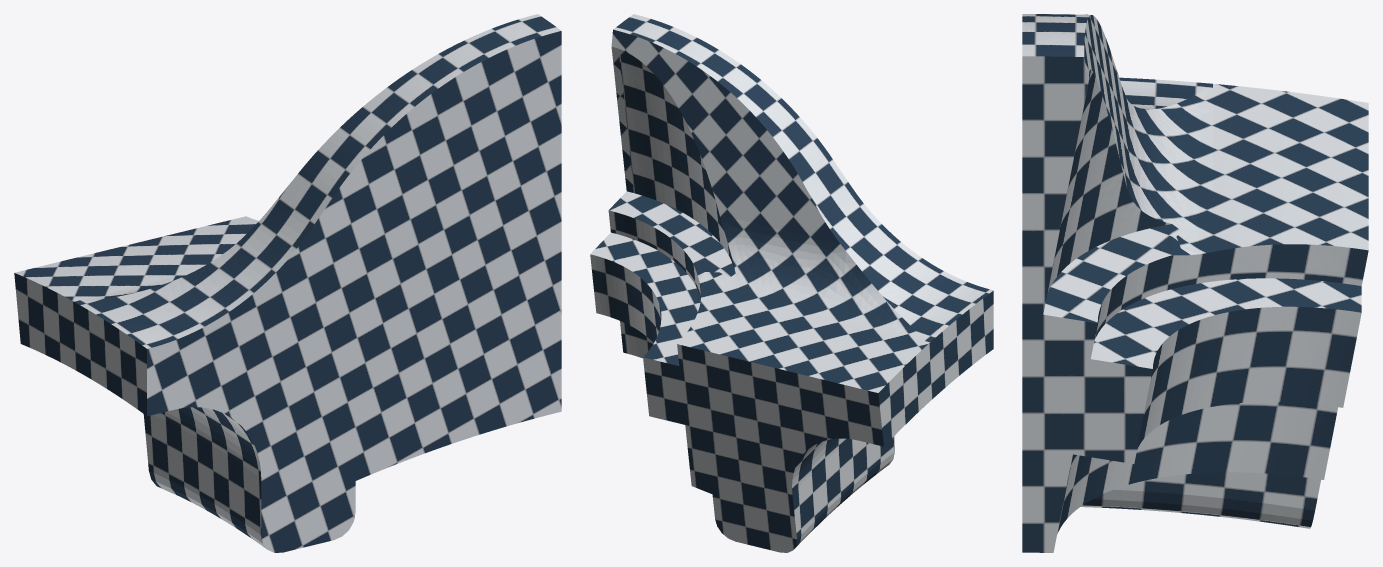
Rendered from packed.obj.
3 renders of one model, left to right at view 1: azimuth 30°, elevation 25°; view 2: azimuth 150°, elevation 25°; view 3: azimuth 270°, elevation 25°, orthographic. The views are drawn at different scales.
Visible parts, largest first — view 1: chart_9, chart_2, chart_11, chart_3, chart_5; view 2: chart_3, chart_4, chart_2, chart_10, chart_5, chart_11, chart_14, chart_1, chart_0, chart_8, chart_12; view 3: chart_3, chart_6, chart_0, chart_12, chart_14, chart_8, chart_10, chart_11, chart_1, chart_2.
Boxes of the visible parts, x1,y1,x2,y2 form: chart_9: (147,31,561,552); chart_2: (74,14,561,348); chart_11: (143,407,266,548); chart_3: (14,216,258,301); chart_5: (14,273,146,415); chart_3: (611,29,929,392); chart_4: (643,344,883,552); chart_2: (613,14,993,342); chart_10: (619,52,735,271); chart_5: (878,291,993,446); chart_11: (792,436,894,548); chart_14: (590,232,700,365); chart_1: (609,191,735,277); chart_0: (590,254,661,342); chart_8: (608,210,701,297); chart_12: (620,321,653,358); chart_3: (1084,15,1368,254); chart_6: (1022,56,1152,552); chart_0: (1137,306,1361,449); chart_12: (1057,402,1337,533); chart_14: (1091,278,1361,368); chart_8: (1094,244,1368,340); chart_10: (1047,69,1170,291); chart_11: (1081,472,1320,528); chart_1: (1043,224,1189,323); chart_2: (1022,14,1212,109).
Size of the model in its own units: 4.83 by 5.24 by 2.68.
Materials: 1 (1 with a texture image).
